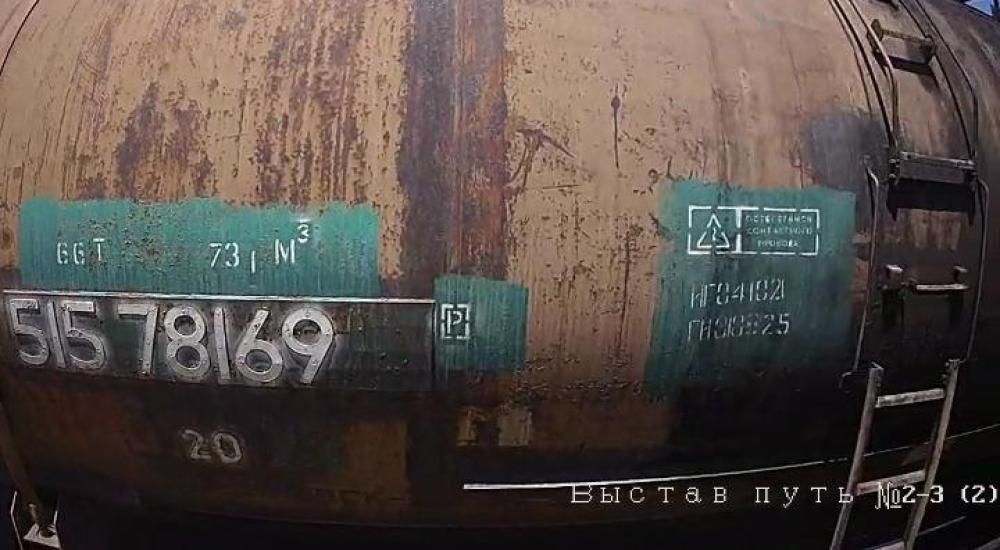Wagon-number: (4, 292, 340, 393)
